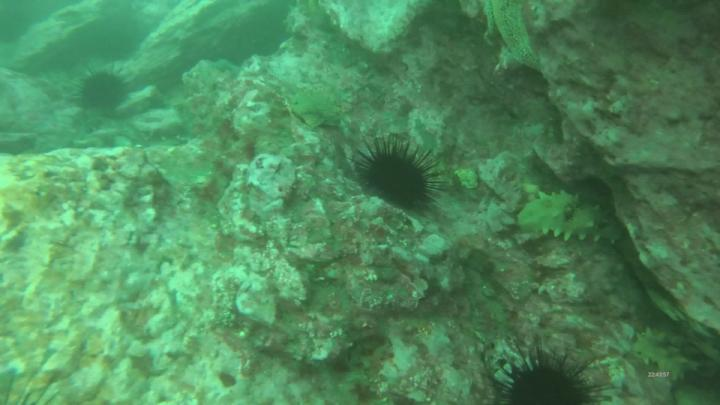echinus: (486, 338, 611, 405), (351, 130, 442, 216), (66, 63, 133, 116)
holothurian: (514, 187, 629, 253), (632, 327, 706, 384)
